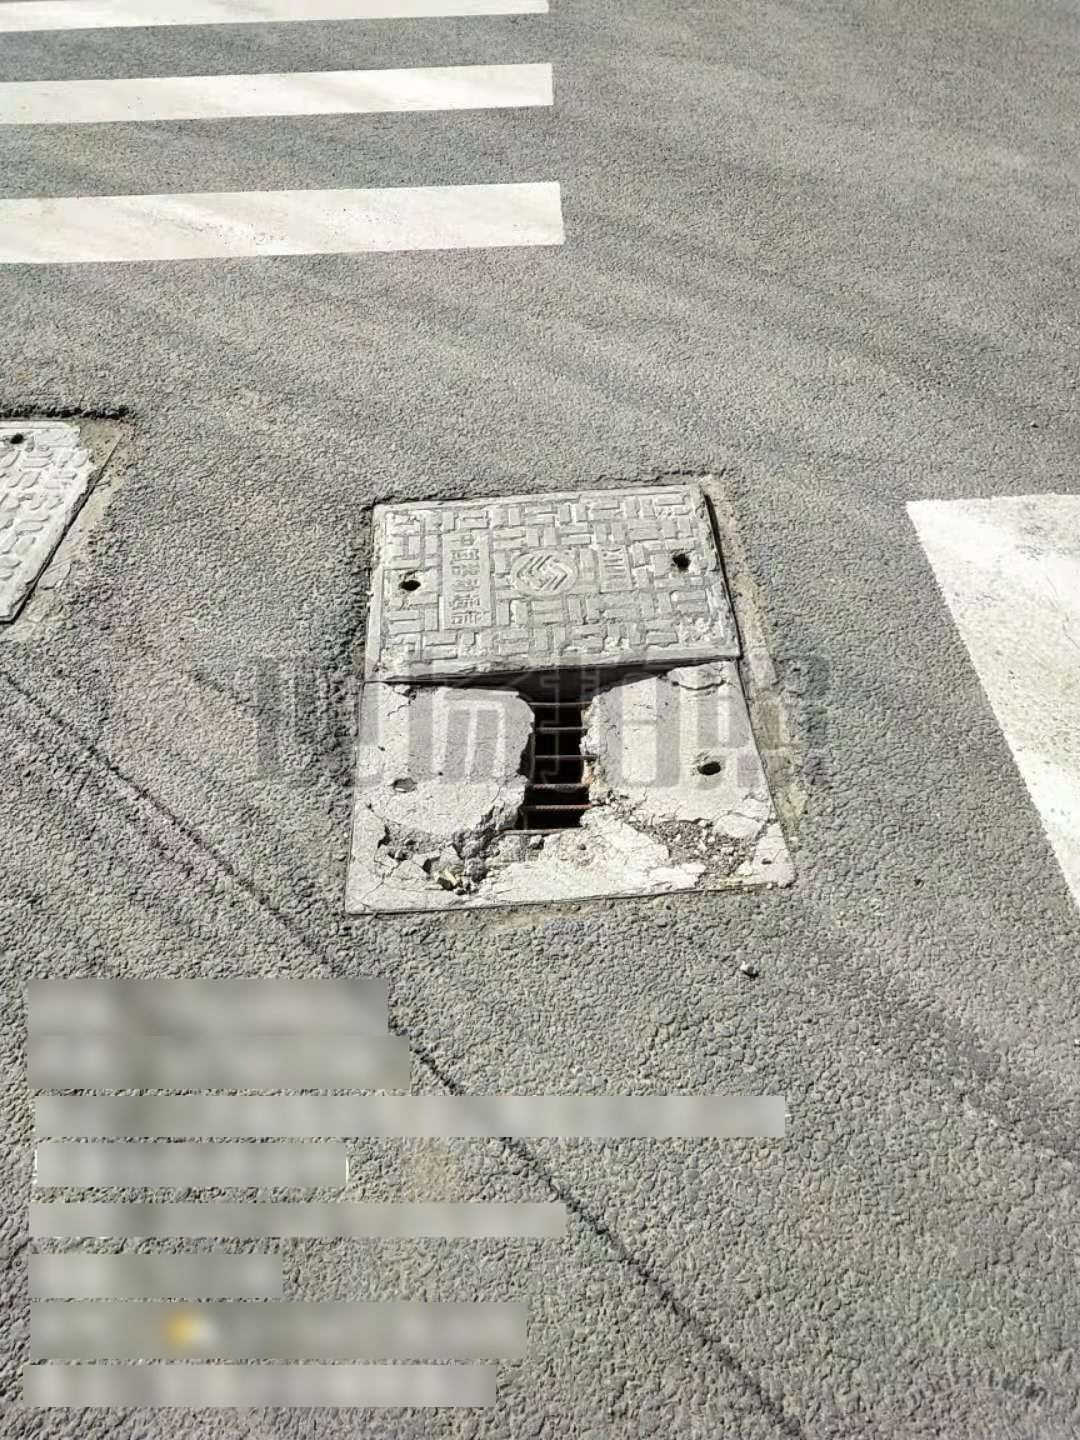broke: (340, 484, 804, 918)
